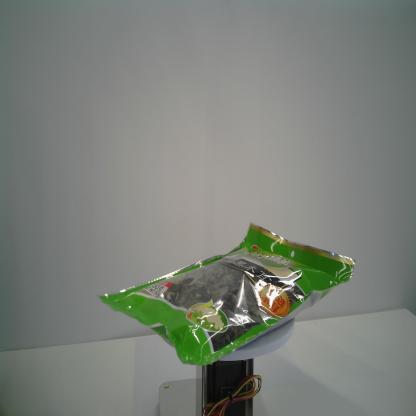Dried Food: (93, 220, 356, 368)
